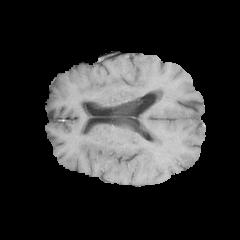glioma: (84, 136, 175, 169)
